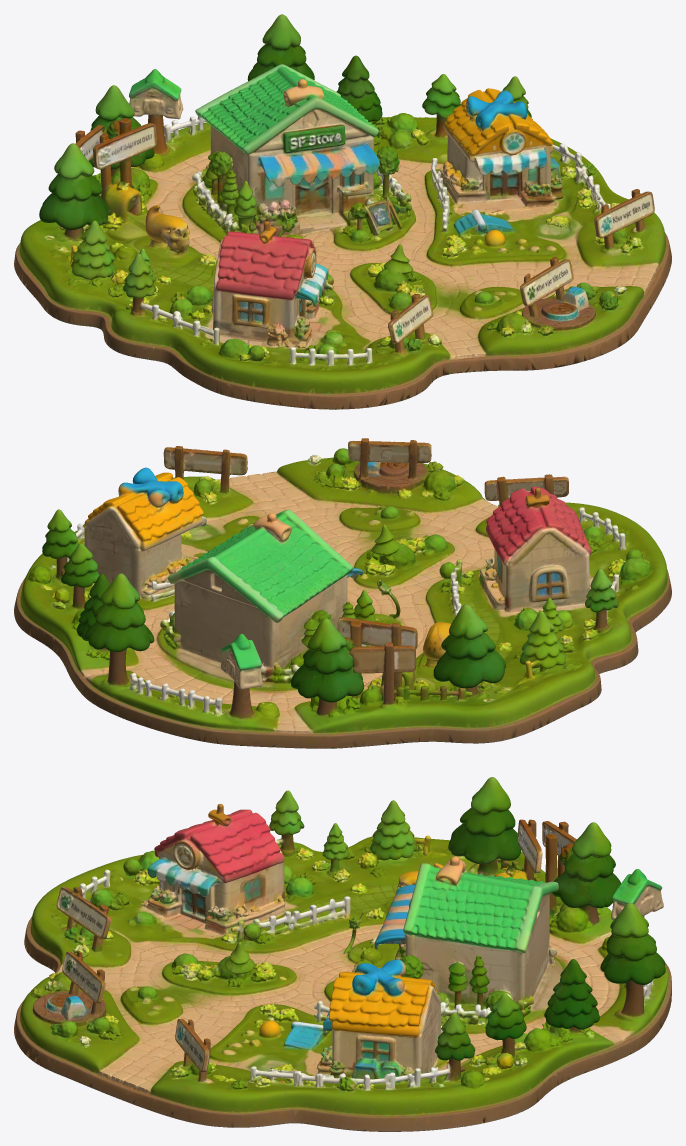
Rendered from village.glb.
The picture shows the model from 3 angles, top to bottom: view 1: azimuth 30°, elevation 25°; view 2: azimuth 150°, elevation 25°; view 3: azimuth 270°, elevation 25°; orthographic projection. The views are drawn at different scales.
Bounding box in the file's own units: 1.87 × 0.4624 × 1.9.
Materials: 1 (1 with a texture image).
